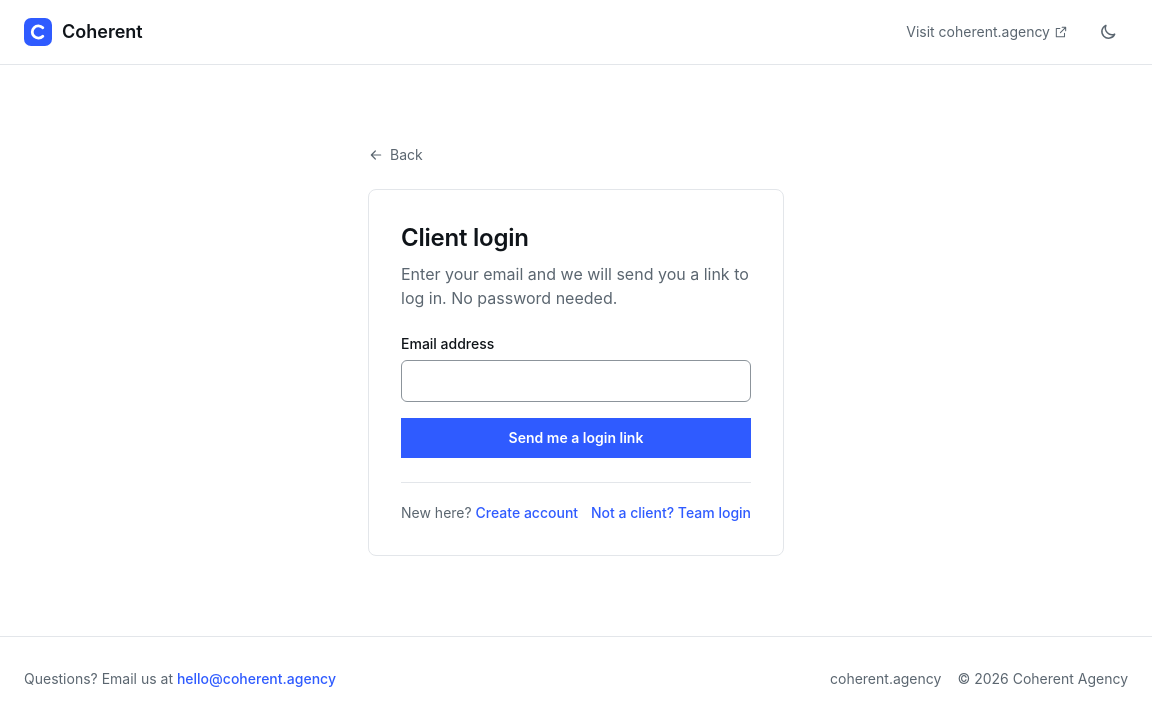
Test: login › rate limits show a friendly message, not a raw error
In the field labelled "Email address": (576,381) [401,360,751,402], type "will@coherent.test"
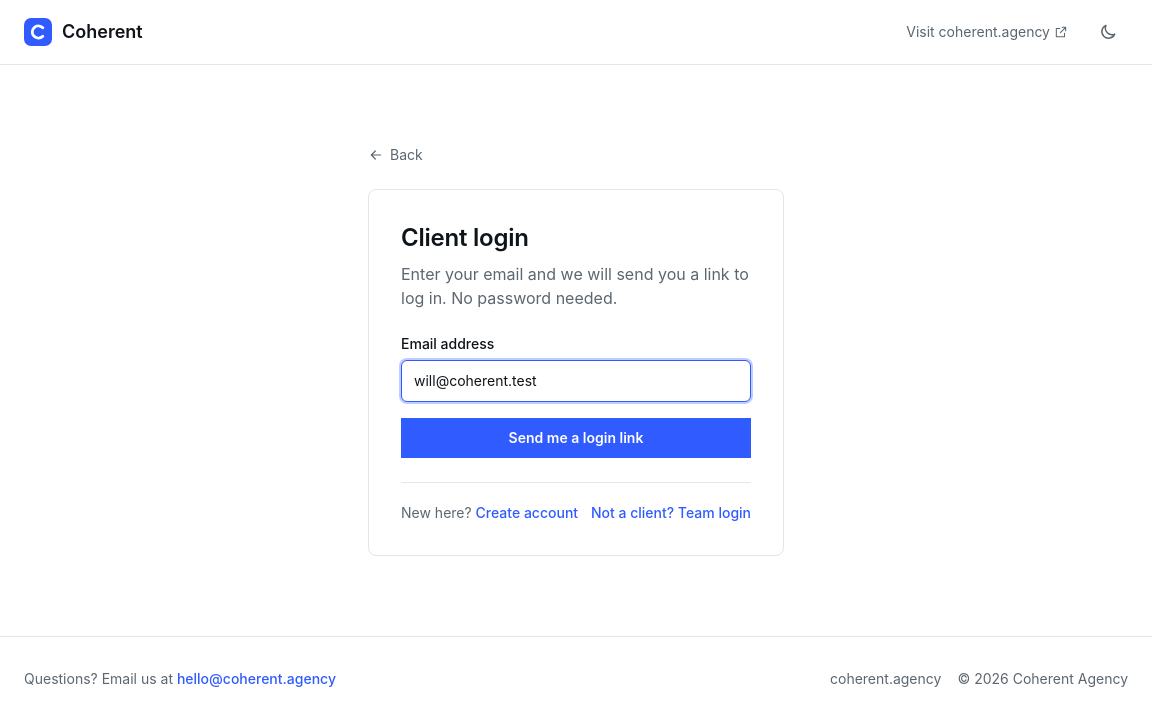
Click the button "Send me a login link": (576,438) [401,418,751,458]
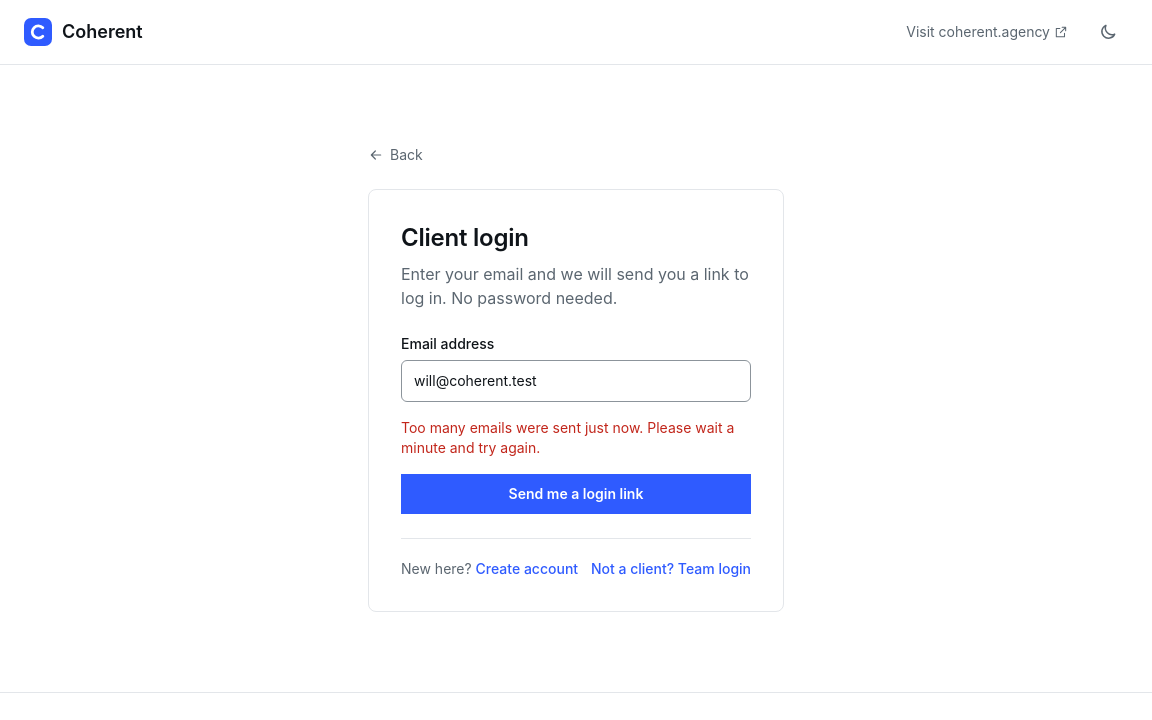
Now the text "Too many emails were sent just now. Please wait a minute and try again." is shown, box [401,418,751,458]
